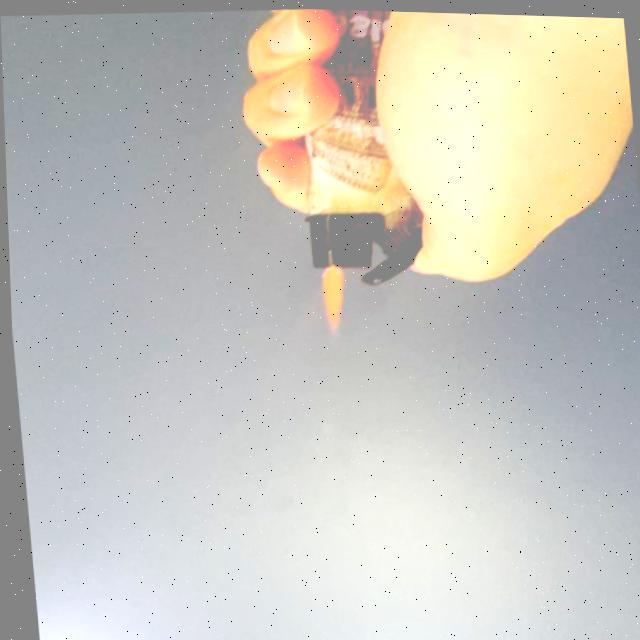Fire: (315, 266, 348, 335)
